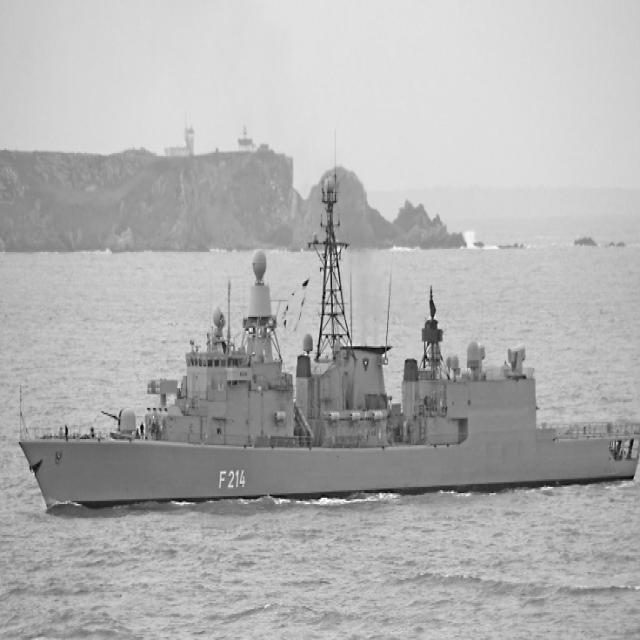Fragata: (12, 171, 640, 522)
